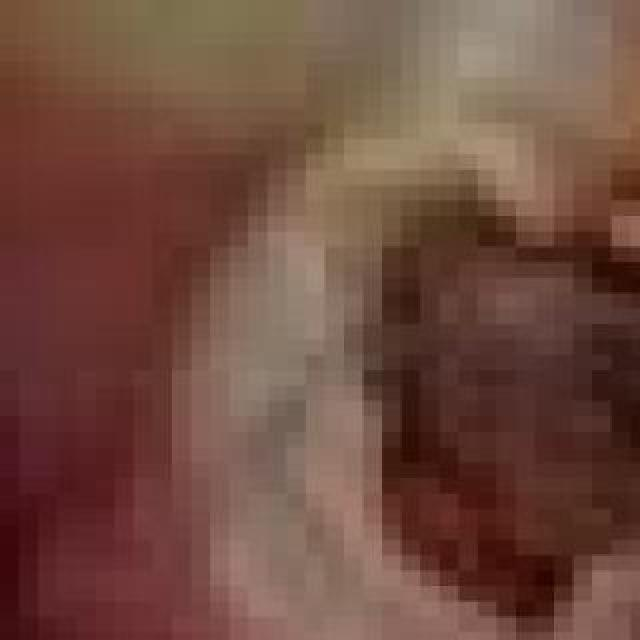cavities: (172, 76, 640, 640), (486, 524, 640, 640)
